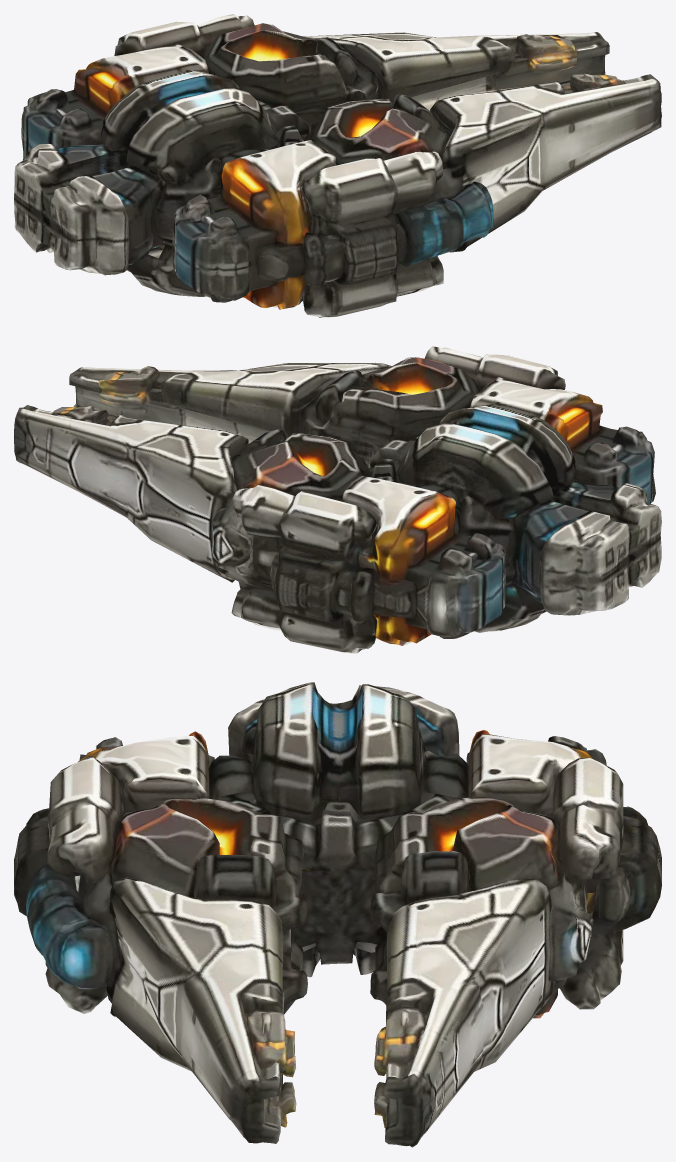
Rendered from model-normalized-review.glb.
The picture shows the model from 3 angles, top to bottom: view 1: azimuth 30°, elevation 25°; view 2: azimuth 150°, elevation 25°; view 3: azimuth 270°, elevation 25°; orthographic projection. The views are drawn at different scales.
Parts seen in each view (by area): view 1: chassis; view 2: chassis; view 3: chassis.
Boxes of the visible parts, box(x1,y1,x2,y2) form: chassis: box(14, 14, 661, 317); chassis: box(14, 346, 661, 653); chassis: box(14, 682, 661, 1147).
Size of the model in its own units: 0.99 by 0.3176 by 0.7211.
1 material, 1 textured.
